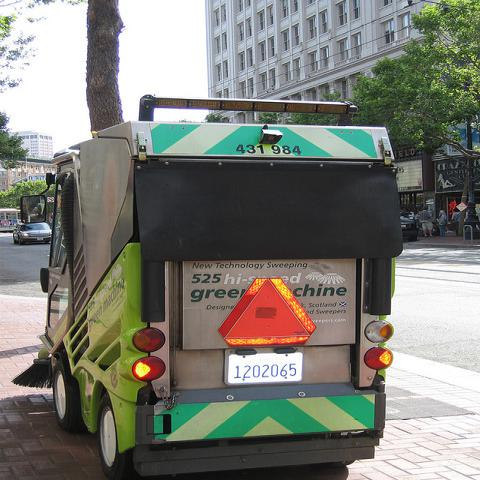car: (12, 222, 52, 245), (400, 209, 418, 241)
truck: (11, 94, 400, 428)
